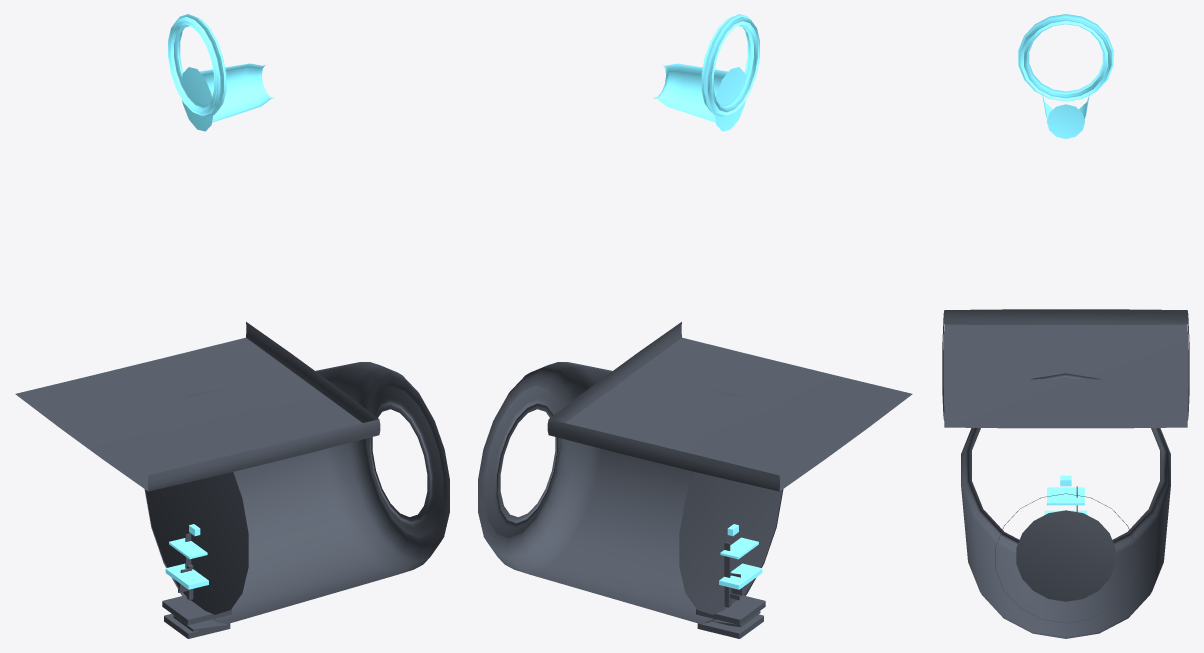
File: place_nav_buoy.glb
The picture shows the model from 3 angles, left to right: view 1: azimuth 30°, elevation 25°; view 2: azimuth 150°, elevation 25°; view 3: azimuth 270°, elevation 25°; orthographic projection. The views are drawn at different scales.
Visible parts, largest first — view 1: Buoy_Barrel, Buoy_Collar, place_nav_buoy_Material_Accent_Merged, DET_collar_ring, DET_sector_stripe; view 2: Buoy_Barrel, Buoy_Collar, place_nav_buoy_Material_Accent_Merged, DET_collar_ring, DET_mount_flange, DET_sector_stripe; view 3: Buoy_Collar, Buoy_Barrel, place_nav_buoy_Material_Accent_Merged, DET_edge_chamfer_band.
Part boxes in pixels (box(x1,y1,x2,y2)): Buoy_Barrel: box(144, 362, 449, 623); Buoy_Collar: box(15, 322, 380, 491); place_nav_buoy_Material_Accent_Merged: box(168, 14, 274, 131); DET_collar_ring: box(162, 595, 231, 624); DET_sector_stripe: box(165, 563, 208, 589); Buoy_Barrel: box(478, 362, 783, 623); Buoy_Collar: box(547, 322, 912, 491); place_nav_buoy_Material_Accent_Merged: box(653, 14, 759, 131); DET_collar_ring: box(696, 595, 765, 624); DET_mount_flange: box(697, 614, 763, 638); DET_sector_stripe: box(719, 563, 762, 589); Buoy_Collar: box(942, 309, 1189, 428); Buoy_Barrel: box(961, 373, 1170, 638); place_nav_buoy_Material_Accent_Merged: box(1018, 14, 1113, 138); DET_edge_chamfer_band: box(1047, 487, 1084, 505).
Bounding box in the file's own units: 3.06 × 5.43 × 2.2.
